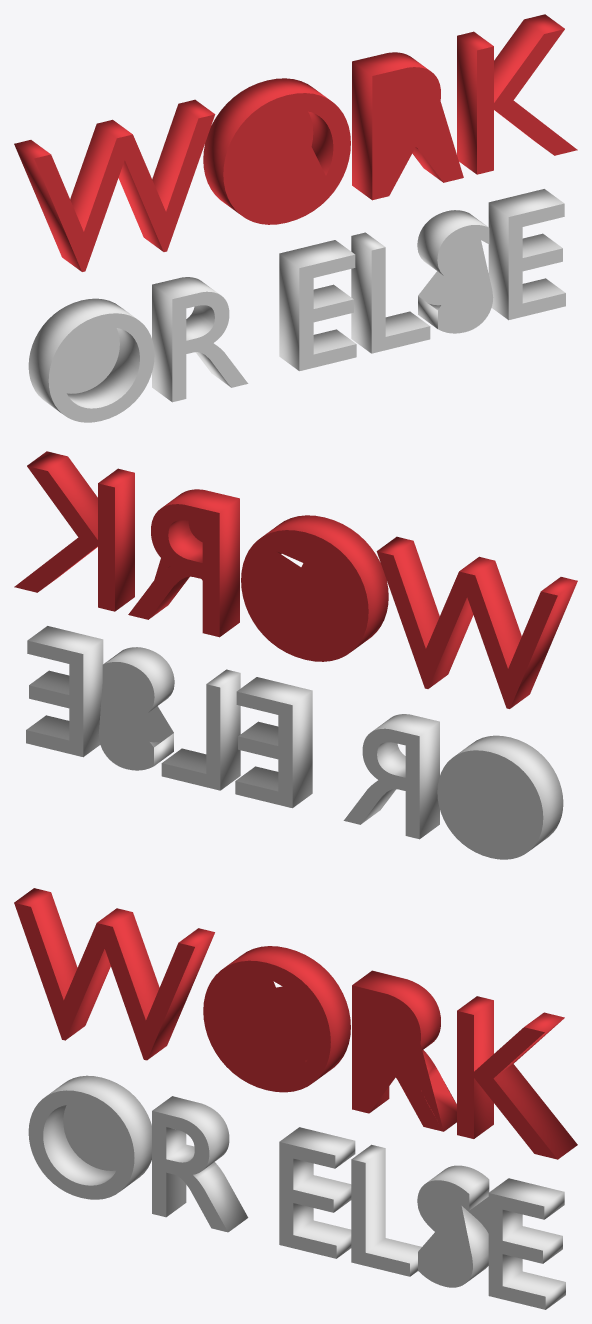
Rendered from WorkOrElse.fbx.
The picture shows the model from 3 angles, top to bottom: view 1: azimuth 30°, elevation 25°; view 2: azimuth 150°, elevation 25°; view 3: azimuth 330°, elevation 25°; orthographic projection.
Visible parts, largest first — view 1: Work, Or Else; view 2: Work, Or Else; view 3: Work, Or Else.
Part boxes in pixels (box(x1,y1,x2,y2)): Work: box(14, 14, 577, 271); Or Else: box(28, 189, 565, 422); Work: box(14, 451, 577, 708); Or Else: box(26, 626, 563, 859); Work: box(14, 888, 577, 1159); Or Else: box(28, 1075, 565, 1309).
Size of the model in its own units: 312 by 154 by 20.
